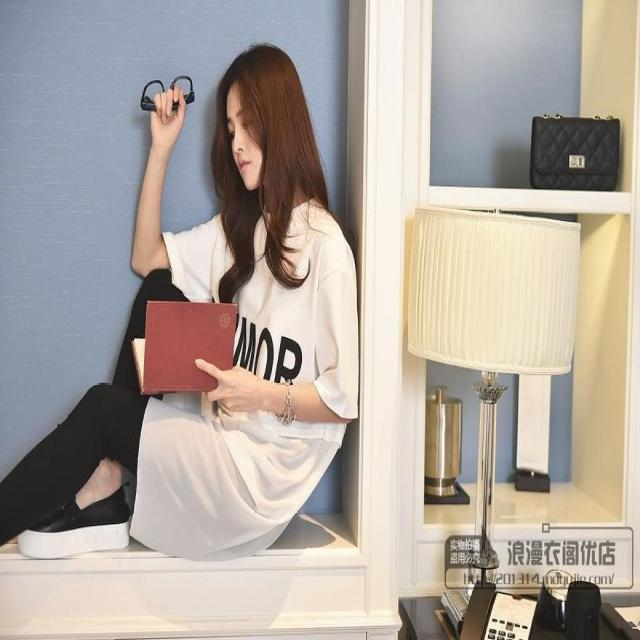short-sleeve-top: (165, 185, 358, 447)
